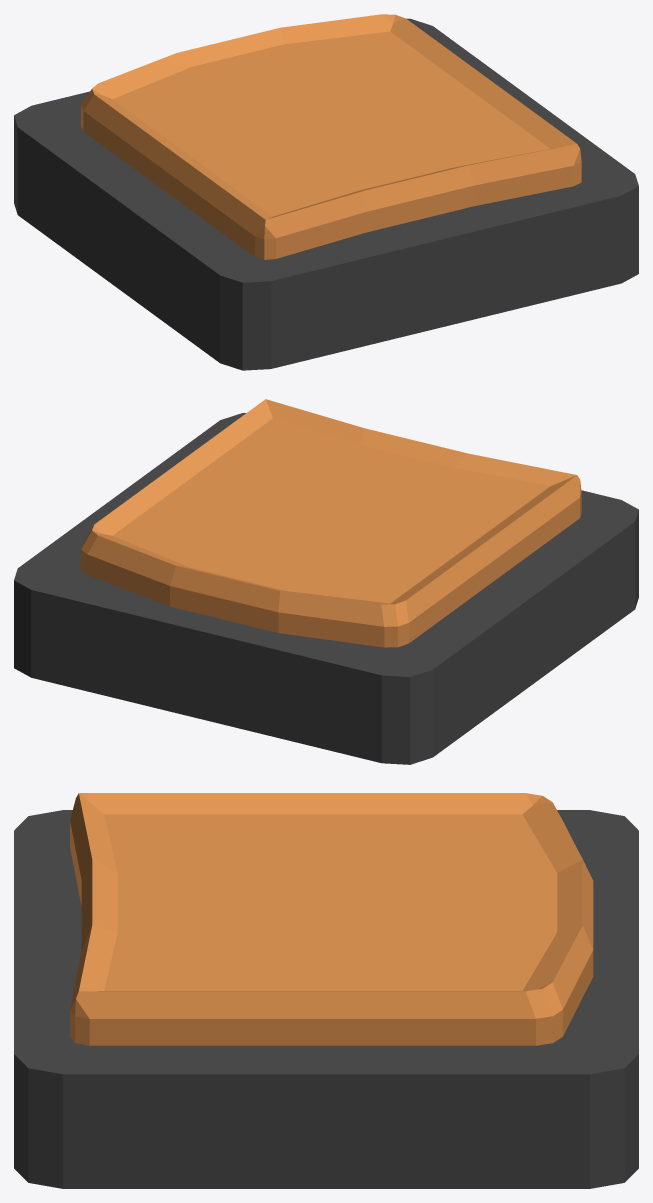
The model's file is Key1.fbx.
3 views of the same model, one above another, from view 1: azimuth 30°, elevation 25°; view 2: azimuth 150°, elevation 25°; view 3: azimuth 270°, elevation 25° (orthographic). The views are drawn at different scales.
Visible parts, largest first — view 1: Cube.002, Cube; view 2: Cube, Cube.002; view 3: Cube, Cube.002.
Boxes of the visible parts, x1=… form: Cube.002: x1=14, y1=18, x2=638, y2=370; Cube: x1=81, y1=14, x2=581, y2=259; Cube: x1=81, y1=399, x2=581, y2=647; Cube.002: x1=14, y1=413, x2=638, y2=764; Cube: x1=70, y1=793, x2=593, y2=1045; Cube.002: x1=14, y1=810, x2=638, y2=1188.
Bounding box in the file's own units: 77.53 × 22.53 × 77.53.
